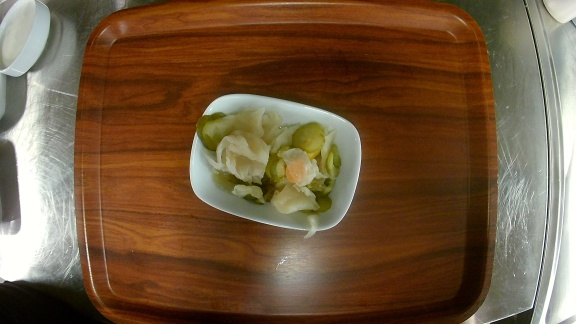tursu: (189, 92, 363, 233)
